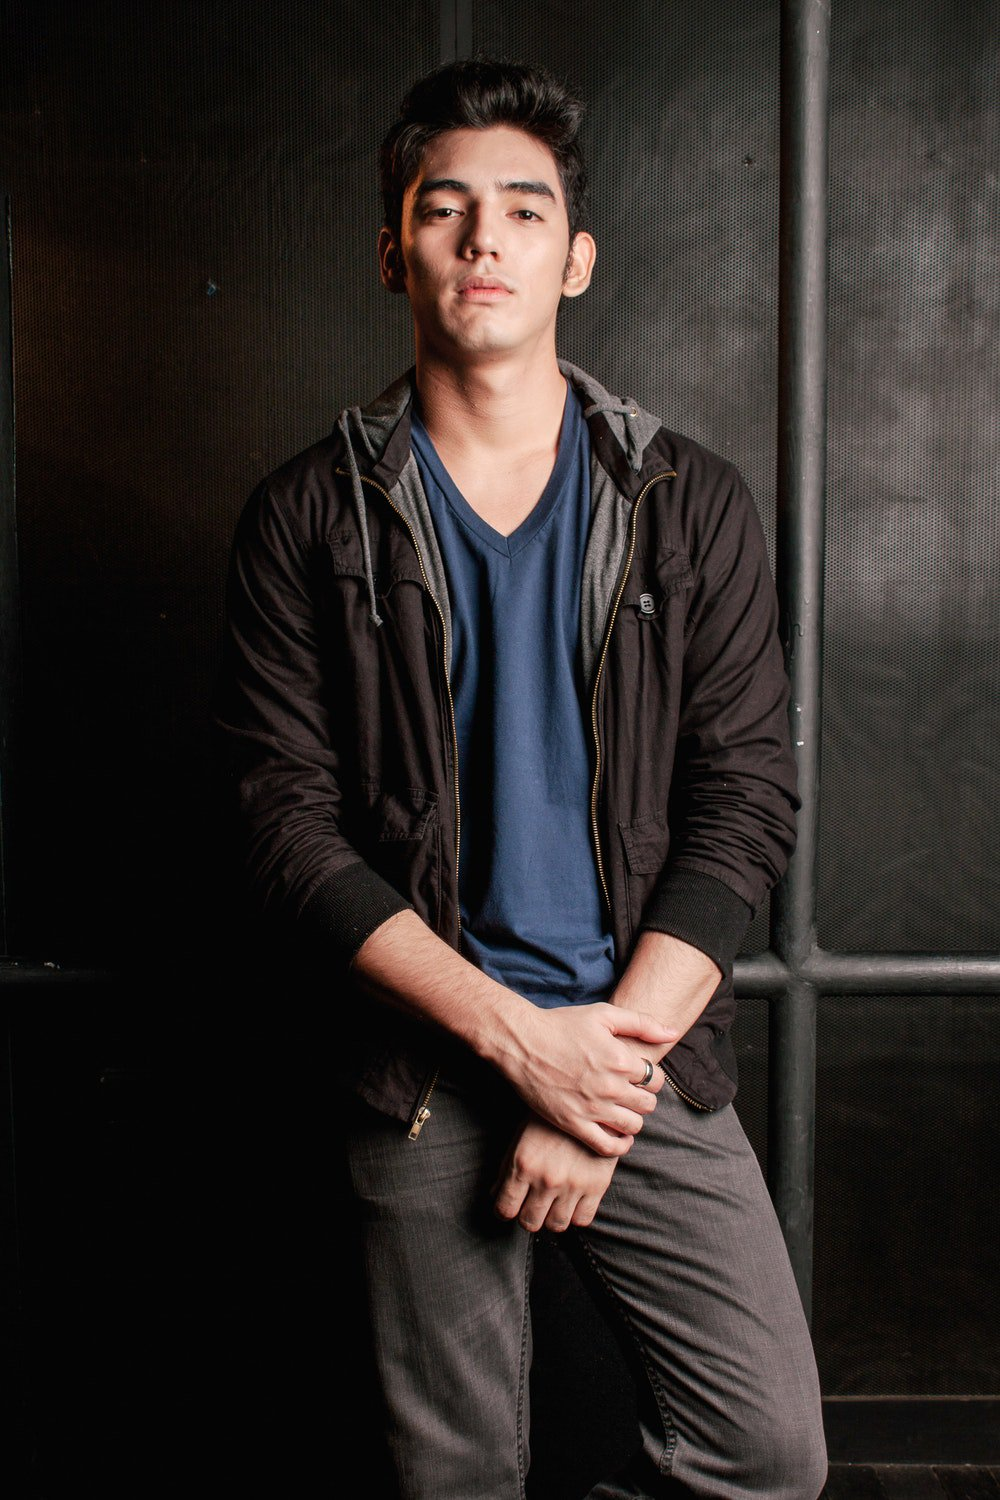noMask: (360, 62, 620, 399)
